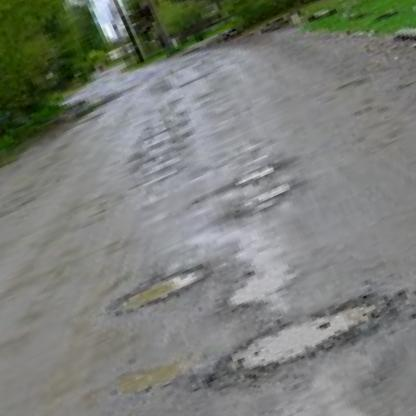pothole: (212, 284, 389, 390), (104, 258, 217, 323)
